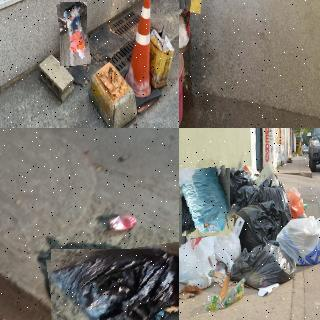Garbage: (48, 244, 179, 320), (180, 167, 232, 238), (232, 242, 301, 290), (179, 237, 234, 286), (238, 200, 285, 246), (278, 215, 320, 266), (58, 2, 89, 67), (179, 10, 191, 54)
